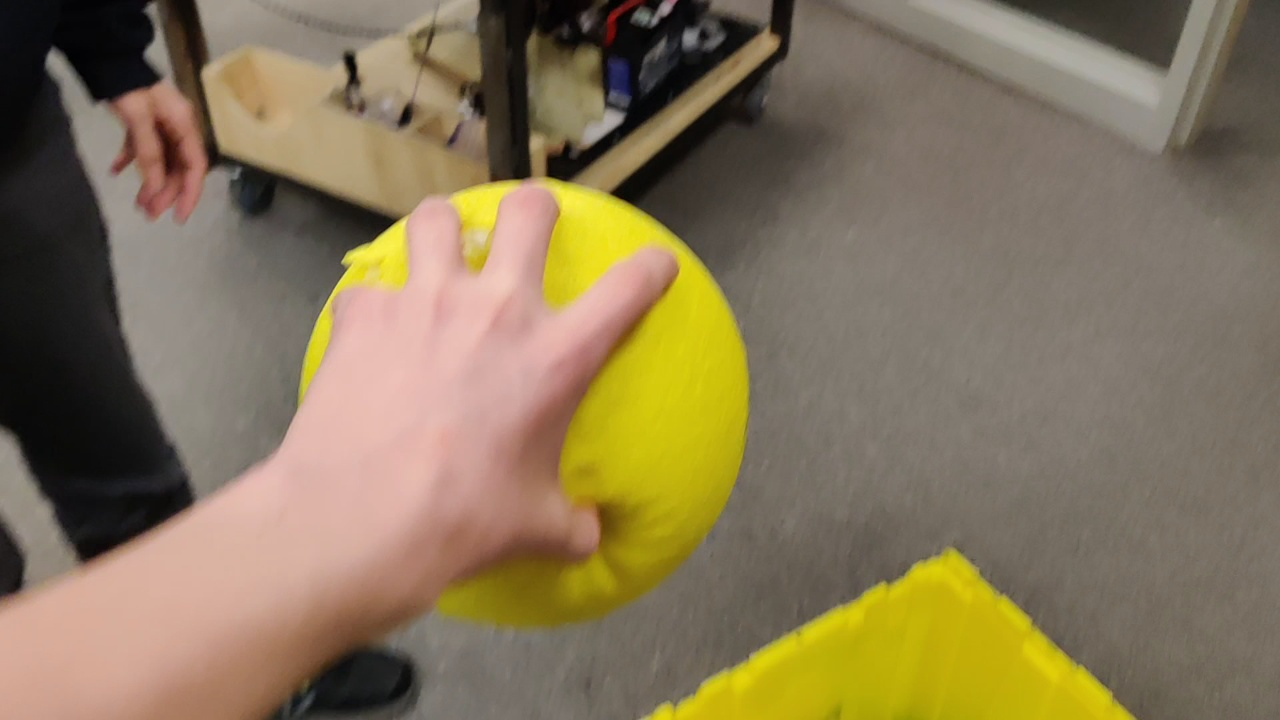Ball: (560, 293, 745, 585)
